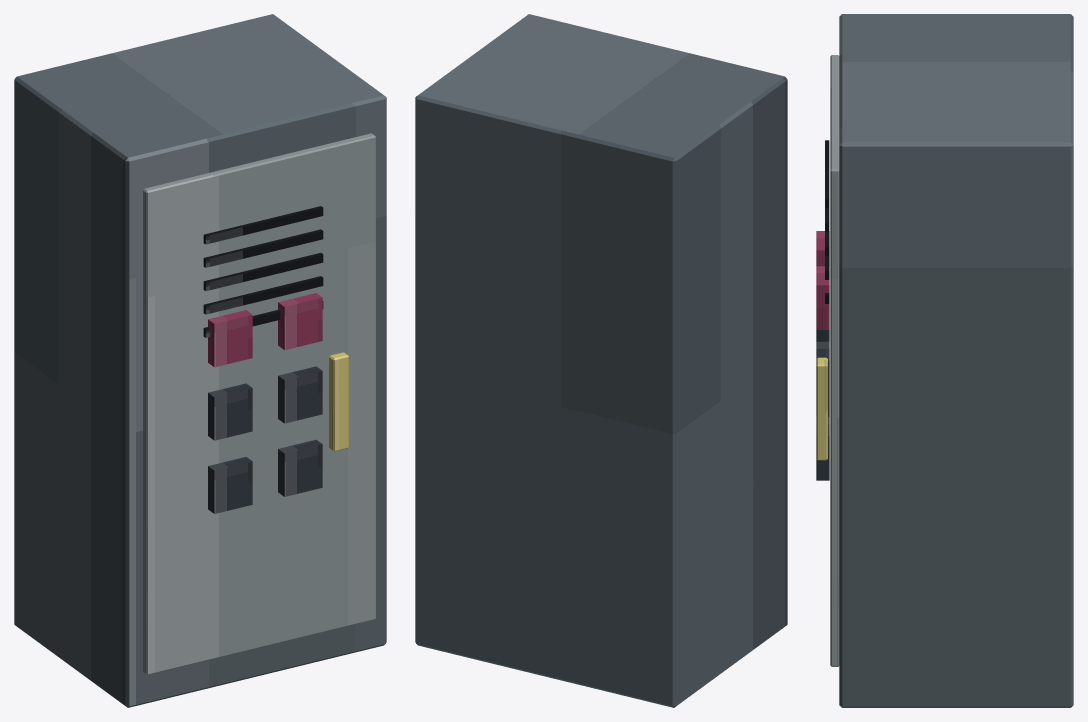
The model's file is breaker_cabinet.glb.
3 renders of one model, left to right at view 1: azimuth 30°, elevation 25°; view 2: azimuth 150°, elevation 25°; view 3: azimuth 270°, elevation 25°, orthographic. The views are drawn at different scales.
Visible parts, largest first — view 1: CabinetBody, FrontDoor, Breaker_0_1, Breaker_0_0, Breaker_1_0, Breaker_1_1, Breaker_2_0, Breaker_2_1, Handle, Vent_2, Vent_1, Vent_0 (+1 smaller); view 2: CabinetBody; view 3: CabinetBody, FrontDoor, Handle, Breaker_2_1, Breaker_0_1.
Part boxes in pixels (bbox=[...]): CabinetBody: bbox=[14, 14, 386, 707]; FrontDoor: bbox=[143, 133, 375, 674]; Breaker_0_1: bbox=[278, 439, 322, 496]; Breaker_0_0: bbox=[208, 457, 252, 513]; Breaker_1_0: bbox=[208, 383, 252, 440]; Breaker_1_1: bbox=[278, 366, 322, 423]; Breaker_2_0: bbox=[208, 310, 252, 367]; Breaker_2_1: bbox=[278, 293, 322, 350]; Handle: bbox=[329, 352, 348, 451]; Vent_2: bbox=[203, 253, 323, 290]; Vent_1: bbox=[203, 229, 323, 267]; Vent_0: bbox=[203, 206, 323, 244]; CabinetBody: bbox=[415, 14, 787, 707]; CabinetBody: bbox=[839, 14, 1073, 707]; FrontDoor: bbox=[830, 55, 839, 666]; Handle: bbox=[816, 357, 827, 460]; Breaker_2_1: bbox=[816, 266, 829, 329]; Breaker_0_1: bbox=[816, 417, 829, 480].
Size of the model in its own units: 0.82 by 1.65 by 0.6805.
1 material, 1 textured.
